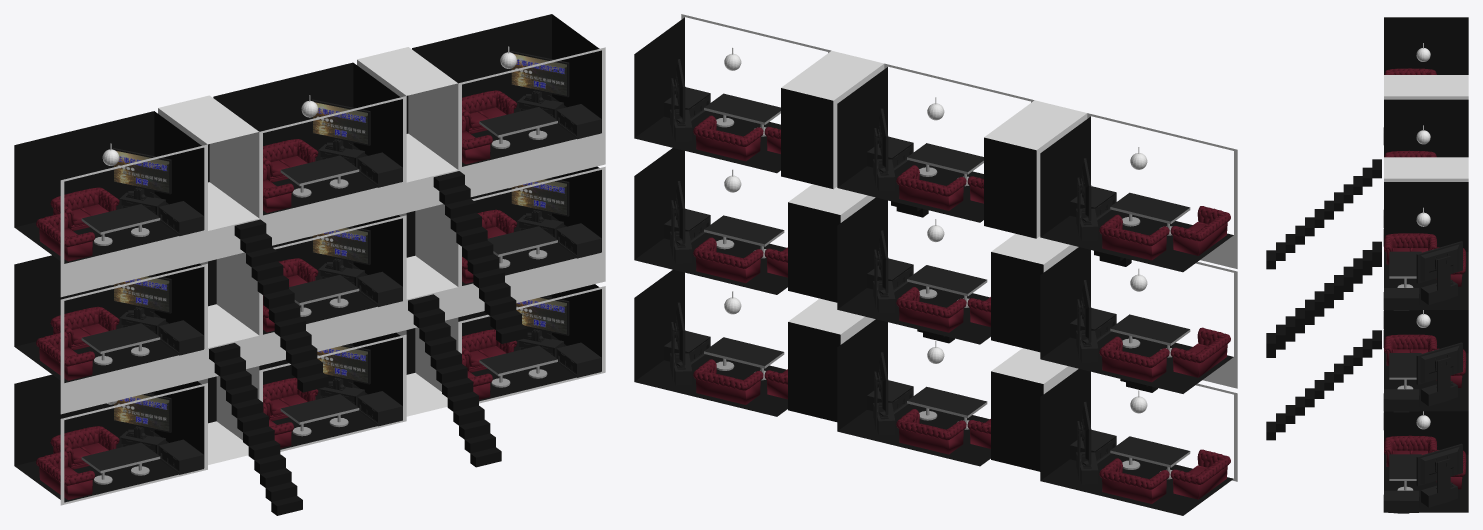
The model's file is Rooms.fbx.
The picture shows the model from 3 angles, left to right: view 1: azimuth 30°, elevation 25°; view 2: azimuth 150°, elevation 25°; view 3: azimuth 270°, elevation 25°; orthographic projection. The views are drawn at different scales.
Visible parts, largest first — view 1: Rooms, Edge, Stairs; view 2: Rooms, Edge, Stairs; view 3: Rooms, Stairs, Edge.
Part boxes in pixels (box(x1,y1,x2,y2)): Rooms: box(14, 14, 605, 505); Edge: box(60, 47, 605, 464); Stairs: box(209, 171, 527, 515); Rooms: box(634, 14, 1237, 515); Edge: box(781, 51, 1237, 471); Stairs: box(888, 200, 1157, 392); Rooms: box(1383, 17, 1468, 513); Stairs: box(1266, 159, 1381, 440); Edge: box(1384, 75, 1468, 181).
Size of the model in its own units: 1662 by 953 by 629.
